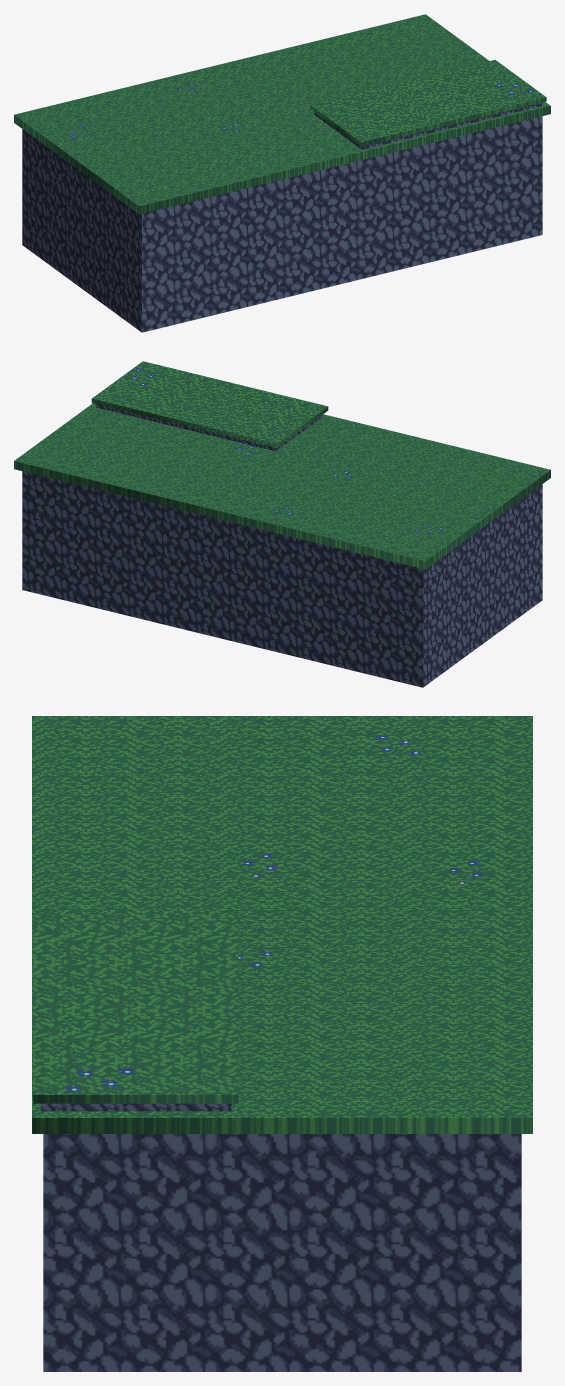
File: Chao3.fbx
3 views of the same model, one above another, from view 1: azimuth 30°, elevation 25°; view 2: azimuth 150°, elevation 25°; view 3: azimuth 270°, elevation 25° (orthographic). The views are drawn at different scales.
Visible parts, largest first — view 1: Chao3; view 2: Chao3; view 3: Chao3.
Boxes of the visible parts, box(x1,y1,x2,y2) form: Chao3: box(14, 14, 550, 332); Chao3: box(14, 361, 550, 687); Chao3: box(32, 716, 532, 1371).
Size of the model in its own units: 5071 by 2673 by 1638.
